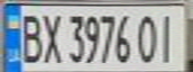3: (63, 10, 84, 64)
6: (115, 10, 136, 64)
7: (100, 11, 118, 64)
9: (81, 11, 100, 64)
B: (15, 9, 45, 64)
I: (154, 9, 184, 64)
O: (133, 10, 160, 64)
X: (39, 9, 63, 64)
